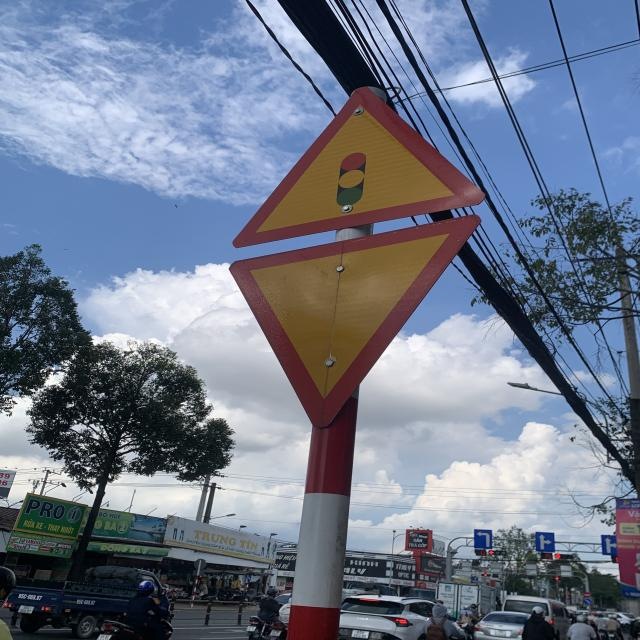Duong_Co_Go_Giam_Toc: (234, 82, 483, 250)
Gioi_Han_Toc_Do_25: (232, 216, 480, 430)
